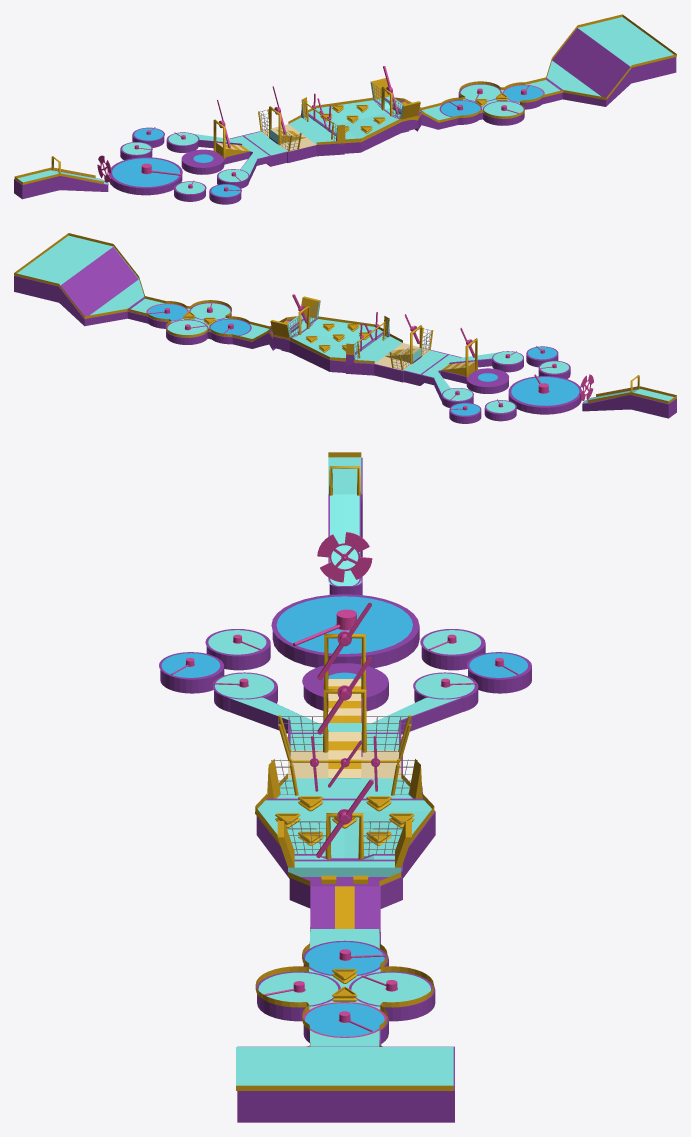
Rendered from map.glb.
3 renders of one model, top to bottom at view 1: azimuth 30°, elevation 25°; view 2: azimuth 150°, elevation 25°; view 3: azimuth 270°, elevation 25°, orthographic. The views are drawn at different scales.
Visible parts, largest first — view 1: Cube, Cube.016; view 2: Cube, Cube.016; view 3: Cube, Cube.016, Circle.
Boxes of the visible parts, bbox=[...] form: Cube: bbox=[14, 14, 676, 197]; Cube.016: bbox=[14, 28, 676, 204]; Cube: bbox=[14, 233, 676, 416]; Cube.016: bbox=[14, 247, 676, 423]; Cube: bbox=[159, 452, 530, 1090]; Cube.016: bbox=[160, 457, 531, 1122]; Circle: bbox=[317, 532, 372, 582].
Size of what is drawn, in the model's own units: 16.71 by 1.76 by 4.28.
